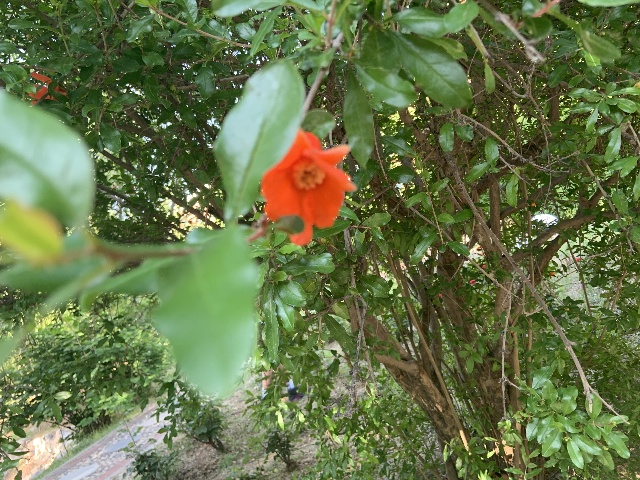flower: (260, 128, 356, 244), (27, 72, 68, 103)
